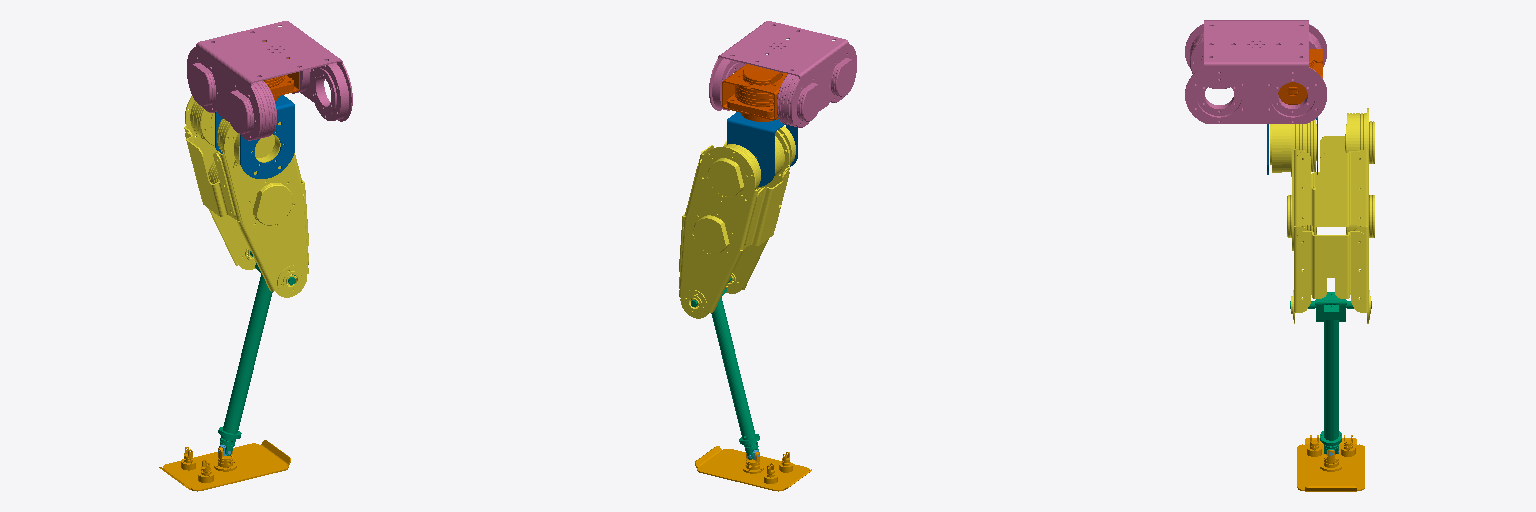
URDF robot description (test_inverted_final):
<?xml version="1.0" ?>
<robot name="test_inverted_final">
<link name="base_link">
  <inertial>
    <origin xyz="-0.01908679186417005 0.10000003543642996 -0.5831036203822734" rpy="0 0 0"/>
    <mass value="0.1444156499617652"/>
      <inertia ixx="100.0" ixy="0.0" ixz="0.0" iyy="100.0" iyz="0.0" izz="100.0"/>
  </inertial>
  <visual>
    <origin xyz="0 0 0" rpy="0 0 0"/>
    <geometry>
      <mesh filename="meshes/base_link.stl" scale="0.001 0.001 0.001"/>
    </geometry>
    <material name="silver"/>
  </visual>
  <collision>
    <origin xyz="0 0 0" rpy="0 0 0"/>
    <geometry>
      <mesh filename="meshes/base_link.stl" scale="0.001 0.001 0.001"/>
    </geometry>
  </collision>
</link>

<link name="l_ankle_1">
  <inertial>
    <origin xyz="-0.007800468073552532 -2.1528612226262567e-13 -3.6316462537211436e-07" rpy="0 0 0"/>
    <mass value="0.0017857987414545656"/>
    <inertia ixx="100.0" ixy="0.0" ixz="0.0" iyy="100.0" iyz="0.0" izz="100.0"/>
  </inertial>
  <visual>
    <origin xyz="0.004092 -0.1 0.561081" rpy="0 0 0"/>
    <geometry>
      <mesh filename="meshes/l_ankle_1.stl" scale="0.001 0.001 0.001"/>
    </geometry>
    <material name="silver"/>
  </visual>
  <collision>
    <origin xyz="0.004092 -0.1 0.561081" rpy="0 0 0"/>
    <geometry>
      <mesh filename="meshes/l_ankle_1.stl" scale="0.001 0.001 0.001"/>
    </geometry>
  </collision>
</link>

<link name="l_shank_1">
  <inertial>
    <origin xyz="0.047753454927990976 -0.007802351197388646 0.16221228128872173" rpy="0 0 0"/>
    <mass value="0.21284837581671107"/>
    <inertia ixx="0.001435" iyy="0.001566" izz="0.000187" ixy="0.0" iyz="0.0" ixz="-0.000442"/>
  </inertial>
  <visual>
    <origin xyz="0.011892 -0.1078 0.561081" rpy="0 0 0"/>
    <geometry>
      <mesh filename="meshes/l_shank_1.stl" scale="0.001 0.001 0.001"/>
    </geometry>
    <material name="silver"/>
  </visual>
  <collision>
    <origin xyz="0.011892 -0.1078 0.561081" rpy="0 0 0"/>
    <geometry>
      <mesh filename="meshes/l_shank_1.stl" scale="0.001 0.001 0.001"/>
    </geometry>
  </collision>
</link>

<link name="l_thigh_1">
  <inertial>
    <origin xyz="-0.03847951076134135 -0.054672411677168464 0.15911804863560305" rpy="0 0 0"/>
    <mass value="2.4192276463978106"/>
    <inertia ixx="0.01249" iyy="0.010396" izz="0.006309" ixy="-0.000154" iyz="0.000601" ixz="0.002029"/>
  </inertial>
  <visual>
    <origin xyz="-0.056073 -0.148999 0.314787" rpy="0 0 0"/>
    <geometry>
      <mesh filename="meshes/l_thigh_1.stl" scale="0.001 0.001 0.001"/>
    </geometry>
    <material name="silver"/>
  </visual>
  <collision>
    <origin xyz="-0.056073 -0.148999 0.314787" rpy="0 0 0"/>
    <geometry>
      <mesh filename="meshes/l_thigh_1.stl" scale="0.001 0.001 0.001"/>
    </geometry>
  </collision>
</link>

<link name="l_hip_pitch_1">
  <inertial>
    <origin xyz="-2.8733765611429693e-07 -0.029750671422763636 0.022749999529343243" rpy="0 0 0"/>
    <mass value="0.09382009482644237"/>
    <inertia ixx="0.000168" iyy="0.000137" izz="0.000133" ixy="0.0" iyz="5e-06" ixz="0.0"/>
  </inertial>
  <visual>
    <origin xyz="-0.002141 -0.080999 0.1015" rpy="0 0 0"/>
    <geometry>
      <mesh filename="meshes/l_hip_pitch_1.stl" scale="0.001 0.001 0.001"/>
    </geometry>
    <material name="silver"/>
  </visual>
  <collision>
    <origin xyz="-0.002141 -0.080999 0.1015" rpy="0 0 0"/>
    <geometry>
      <mesh filename="meshes/l_hip_pitch_1.stl" scale="0.001 0.001 0.001"/>
    </geometry>
  </collision>
</link>

<link name="l_hip_yaw_1">
  <inertial>
    <origin xyz="9.209230191661215e-05 1.1592774343954781e-07 0.03985266770442706" rpy="0 0 0"/>
    <mass value="0.8119924047866205"/>
    <inertia ixx="0.00056" iyy="0.000609" izz="0.000712" ixy="-0.0" iyz="0.0" ixz="-2e-06"/>
  </inertial>
  <visual>
    <origin xyz="-0.002141 -0.048999 0.0465" rpy="0 0 0"/>
    <geometry>
      <mesh filename="meshes/l_hip_yaw_1.stl" scale="0.001 0.001 0.001"/>
    </geometry>
    <material name="silver"/>
  </visual>
  <collision>
    <origin xyz="-0.002141 -0.048999 0.0465" rpy="0 0 0"/>
    <geometry>
      <mesh filename="meshes/l_hip_yaw_1.stl" scale="0.001 0.001 0.001"/>
    </geometry>
  </collision>
</link>

<link name="bipedal_floating_1">
  <inertial>
    <origin xyz="0.01272412604151596 -0.048999884075327724 0.004430089785499627" rpy="0 0 0"/>
    <mass value="1.1534250755587985"/>
    <inertia ixx="0.00373" iyy="0.003678" izz="0.006137" ixy="-0.0" iyz="-0.0" ixz="-0.000116"/>
  </inertial>
  <visual>
    <origin xyz="0.042359 -0.048999 0.005" rpy="0 0 0"/>
    <geometry>
      <mesh filename="meshes/bipedal_floating_1.stl" scale="0.001 0.001 0.001"/>
    </geometry>
    <material name="silver"/>
  </visual>
  <collision>
    <origin xyz="0.042359 -0.048999 0.005" rpy="0 0 0"/>
    <geometry>
      <mesh filename="meshes/bipedal_floating_1.stl" scale="0.001 0.001 0.001"/>
    </geometry>
  </collision>
</link>

<joint name="L_Ankle_Roll" type="continuous">
  <origin xyz="-0.004092 0.1 -0.561081" rpy="0 0 0"/>
  <parent link="base_link"/>
  <child link="l_ankle_1"/>
  <axis xyz="1.0 0.0 0.0"/>
</joint>

<joint name="L_Ankle_Pitch" type="continuous">
  <origin xyz="-0.0078 0.0078 0.0" rpy="0 0 0"/>
  <parent link="l_ankle_1"/>
  <child link="l_shank_1"/>
  <axis xyz="0.0 1.0 0.0"/>
</joint>

<joint name="L_Knee_Pitch" type="continuous">
  <origin xyz="0.067965 0.041199 0.246294" rpy="0 0 0"/>
  <parent link="l_shank_1"/>
  <child link="l_thigh_1"/>
  <axis xyz="0.0 1.0 0.0"/>
</joint>

<joint name="L_Hip_Pitch" type="continuous">
  <origin xyz="-0.053932 -0.068 0.213287" rpy="0 0 0"/>
  <parent link="l_thigh_1"/>
  <child link="l_hip_pitch_1"/>
  <axis xyz="0.0 1.0 0.0"/>
</joint>

<joint name="L_Hip_Yaw" type="continuous">
  <origin xyz="0.0 -0.032 0.055" rpy="0 0 0"/>
  <parent link="l_hip_pitch_1"/>
  <child link="l_hip_yaw_1"/>
  <axis xyz="0.0 0.0 1.0"/>
</joint>

<joint name="L_Hip_Roll" type="continuous">
  <origin xyz="-0.0445 0.0 0.0415" rpy="0 0 0"/>
  <parent link="l_hip_yaw_1"/>
  <child link="bipedal_floating_1"/>
  <axis xyz="1.0 0.0 0.0"/>
</joint>

</robot>

--- What the picture shows (computed from the rendered views, not written in the file) ---
The picture shows the robot from 3 angles, left to right: view 1: azimuth 30°, elevation 25°; view 2: azimuth 150°, elevation 25°; view 3: azimuth 270°, elevation 25°; orthographic projection.
Robot: test_inverted_final — 7 links, 6 joints (6 continuous); root link base_link; default pose: all joints at 0.
Visible links, largest first — view 1: l_thigh_1, bipedal_floating_1, base_link, l_shank_1, l_hip_pitch_1, l_hip_yaw_1; view 2: l_thigh_1, bipedal_floating_1, base_link, l_hip_yaw_1, l_hip_pitch_1, l_shank_1; view 3: l_thigh_1, bipedal_floating_1, base_link, l_shank_1, l_hip_yaw_1.
Link boxes in pixels (x1,y1,x2,y2): l_thigh_1: (184,96,308,297); bipedal_floating_1: (187,21,352,140); base_link: (159,440,290,491); l_shank_1: (218,251,295,455); l_hip_pitch_1: (215,95,294,178); l_hip_yaw_1: (263,41,299,100); l_thigh_1: (679,126,795,318); bipedal_floating_1: (709,21,856,127); base_link: (695,446,811,491); l_hip_yaw_1: (722,64,787,121); l_hip_pitch_1: (727,112,797,186); l_shank_1: (691,278,759,459); l_thigh_1: (1270,108,1374,323); bipedal_floating_1: (1185,20,1326,123); base_link: (1297,435,1364,491); l_shank_1: (1290,292,1371,453); l_hip_yaw_1: (1278,49,1322,104).
Bounding box of the posed robot: 0.1927 × 0.2535 × 0.6321 m (x, y, z).
7 mesh visuals loaded from 7 distinct referenced files (7 binary STL).
